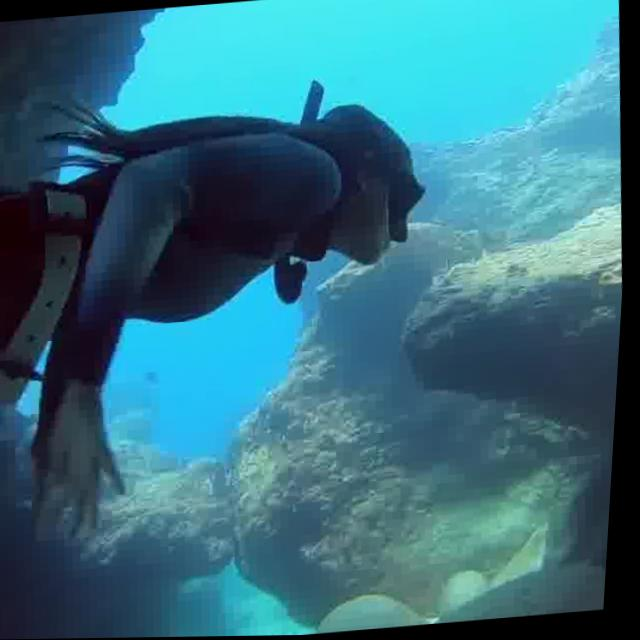human: (0, 66, 467, 553)
